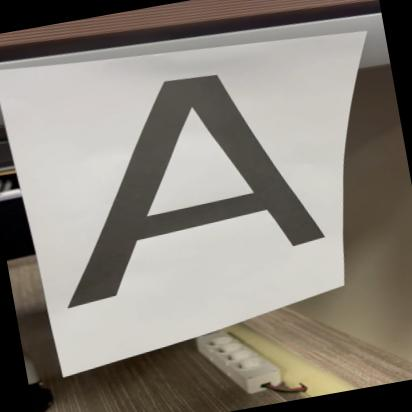seat: (17, 44, 345, 318)
